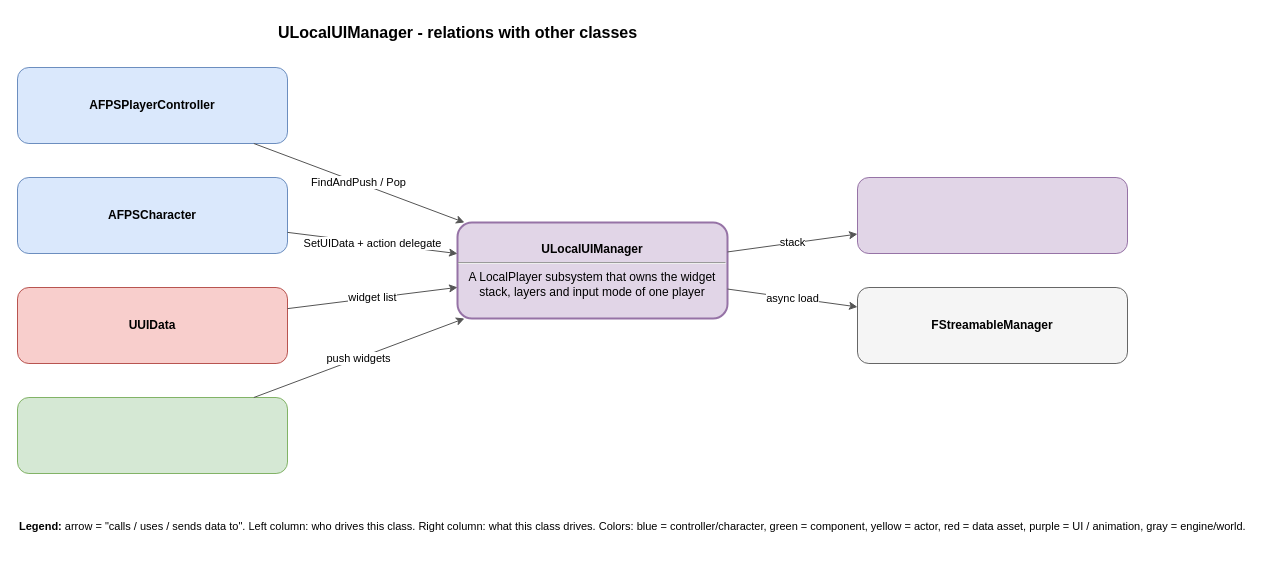
Image size: 1264x570. Some labels were removed from this diagram. The centre of each missing label's shape, as x and y in pixels:
UExaminationComponent UConstructionComponent: pixel 152 435
UInventoryMenuWidget MenuWidget Settings widgets: pixel 992 215
